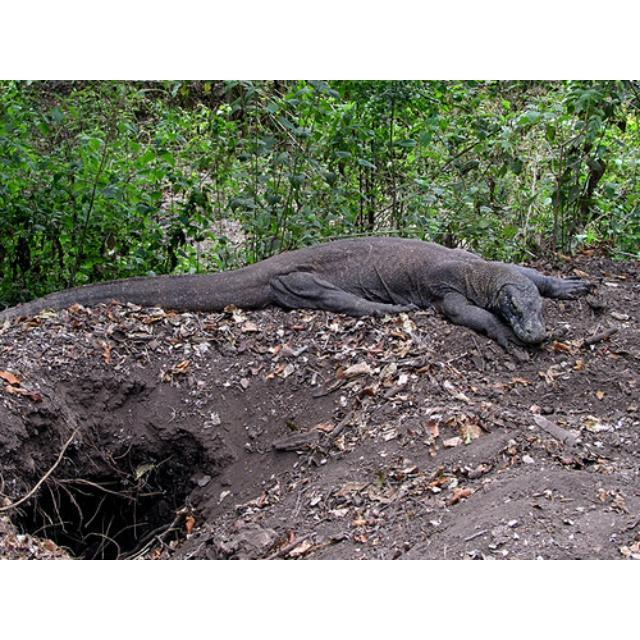KomodoDragon: (0, 235, 596, 363)
